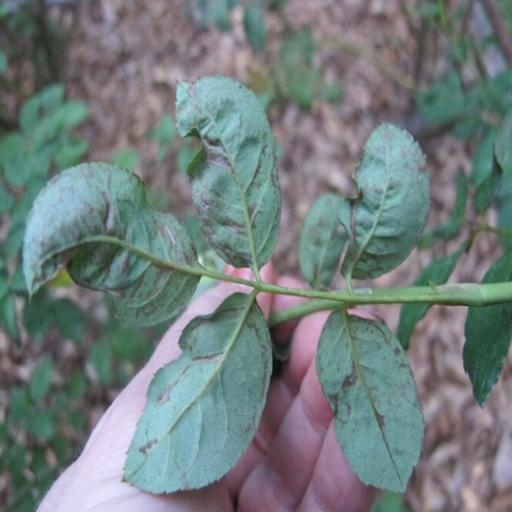thrip: (126, 293, 271, 493), (23, 164, 199, 324), (177, 77, 280, 271), (317, 309, 424, 491), (338, 124, 429, 279)
